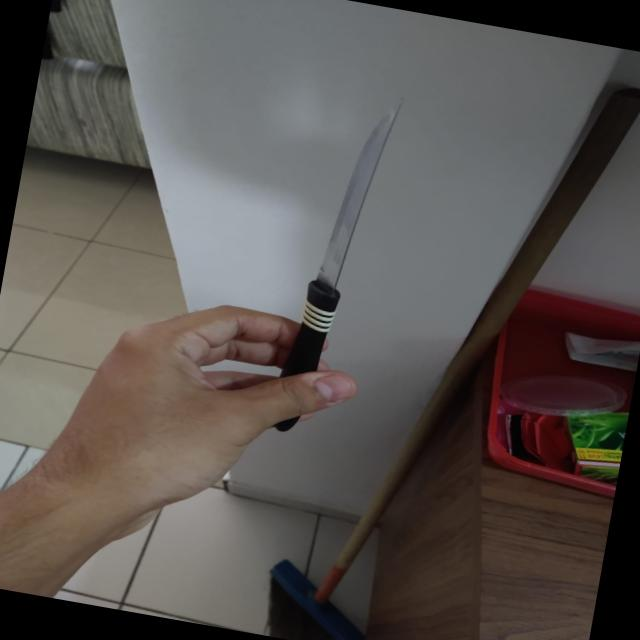knife: (256, 62, 420, 460)
